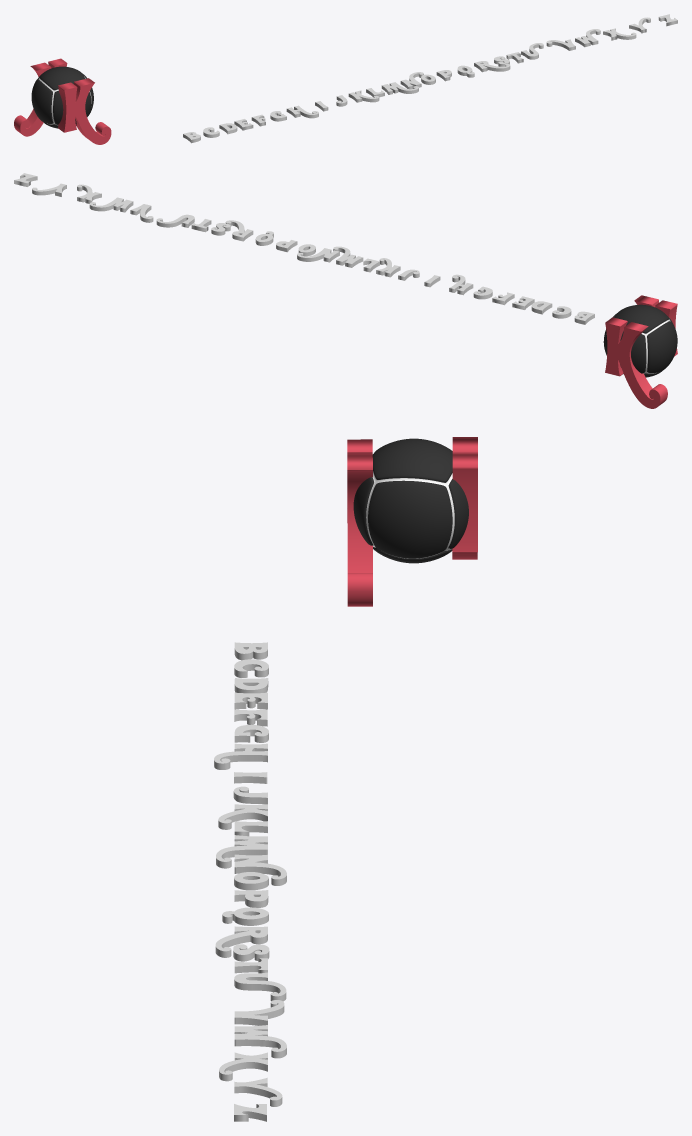
3 views of the same model, one above another, from view 1: azimuth 30°, elevation 25°; view 2: azimuth 150°, elevation 25°; view 3: azimuth 270°, elevation 25° (orthographic). The views are drawn at different scales.
Visible parts, largest first — view 1: Cube.001, A, A.001, M, W, R, H, N, K, X, U; view 2: Cube.001, A.001, A, W, M, N; view 3: Cube.001, A, A.001, W, M.
Part boxes in pixels (x1,y1,x2,y2): Cube.001: [31, 66, 93, 128]; A: [58, 78, 111, 144]; A.001: [14, 58, 67, 136]; M: [381, 82, 418, 94]; W: [575, 29, 600, 47]; R: [474, 61, 510, 72]; H: [286, 105, 318, 118]; N: [400, 72, 423, 89]; K: [348, 90, 379, 102]; X: [603, 28, 636, 40]; U: [521, 43, 543, 59]; Cube.001: [603, 304, 677, 377]; A.001: [605, 317, 667, 408]; A: [634, 295, 677, 356]; W: [89, 197, 133, 212]; M: [333, 246, 363, 267]; N: [297, 248, 339, 262]; Cube.001: [353, 438, 468, 563]; A: [347, 439, 372, 606]; A.001: [452, 437, 477, 559]; W: [234, 1025, 286, 1058]; M: [216, 835, 267, 868].
Bounding box in the file's own units: 1905 × 206 × 361.
